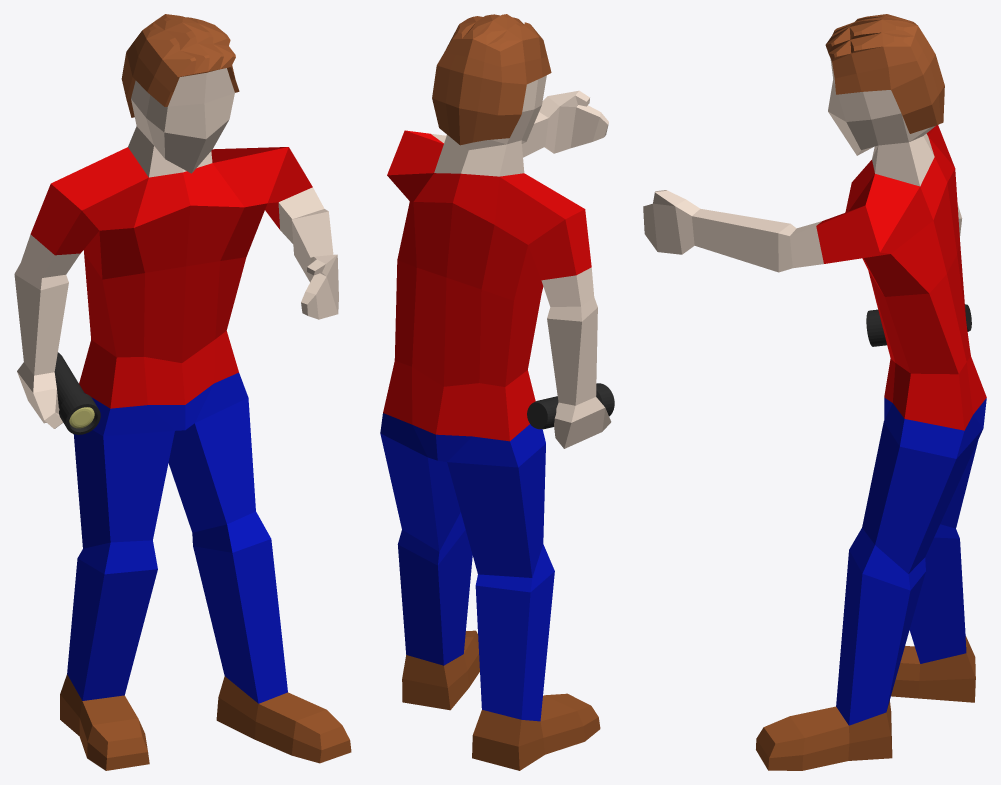
Rendered from Human_grabbing_27.fbx.
The picture shows the model from 3 angles, left to right: view 1: azimuth 30°, elevation 25°; view 2: azimuth 150°, elevation 25°; view 3: azimuth 270°, elevation 25°; orthographic projection. The views are drawn at different scales.
Visible parts, largest first — view 1: Person.003, Cylinder.002; view 2: Person.003, Cylinder.002; view 3: Person.003, Cylinder.002.
Part boxes in pixels (<box>): Person.003: <box>14,14,351,770</box>; Cylinder.002: <box>54,352,100,434</box>; Person.003: <box>380,14,611,770</box>; Cylinder.002: <box>527,383,614,429</box>; Person.003: <box>643,14,986,770</box>; Cylinder.002: <box>866,304,971,346</box>.
Size of the model in its own units: 0.5565 by 1.56 by 0.6971.
